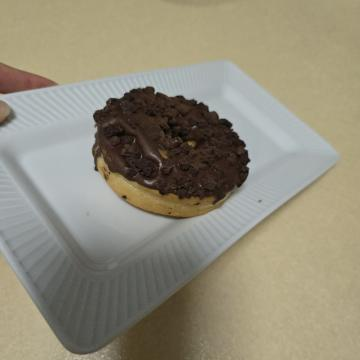doughnut: (77, 102, 234, 284)
